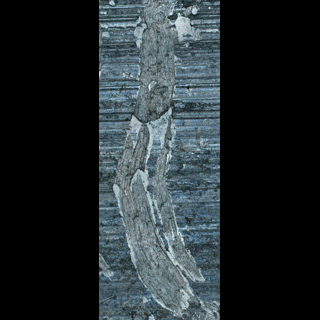d: (110, 139, 182, 268), (118, 58, 180, 160), (138, 243, 216, 317), (125, 0, 208, 58), (99, 0, 119, 40)
